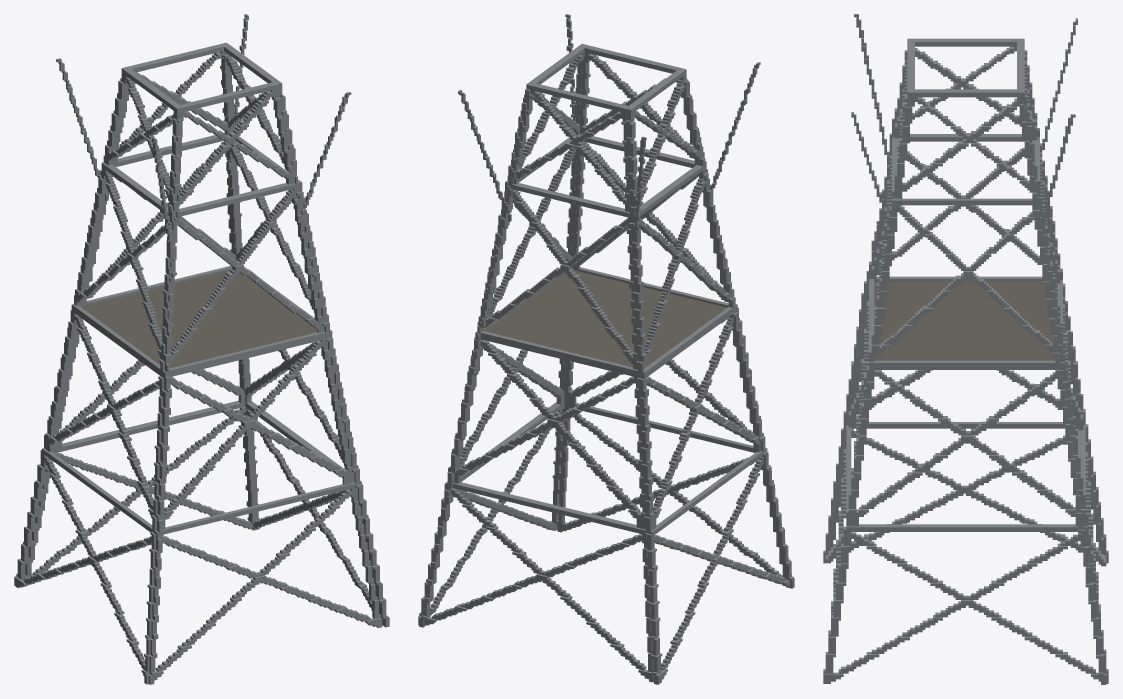
The model's file is tower-0.obj.
The picture shows the model from 3 angles, left to right: view 1: azimuth 30°, elevation 25°; view 2: azimuth 150°, elevation 25°; view 3: azimuth 270°, elevation 25°; orthographic projection. The views are drawn at different scales.
Size of the model in its own units: 11.6 by 24.1 by 11.2.
1 material, 1 textured.
